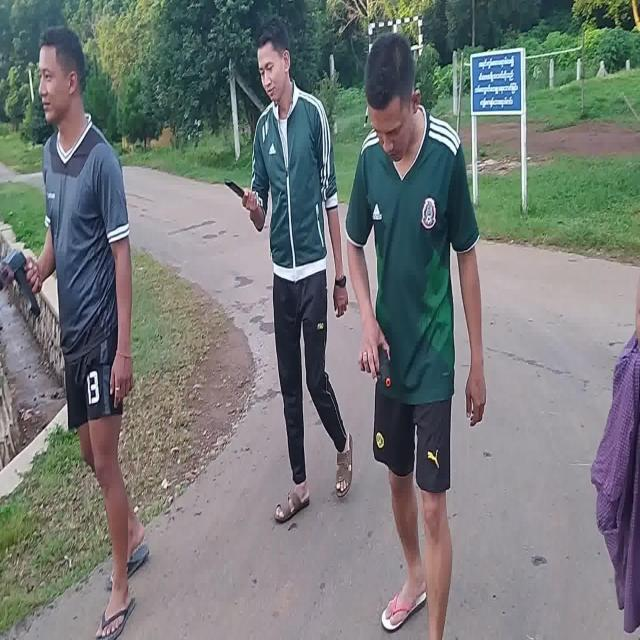gun: (1, 250, 40, 314), (360, 344, 392, 388)
